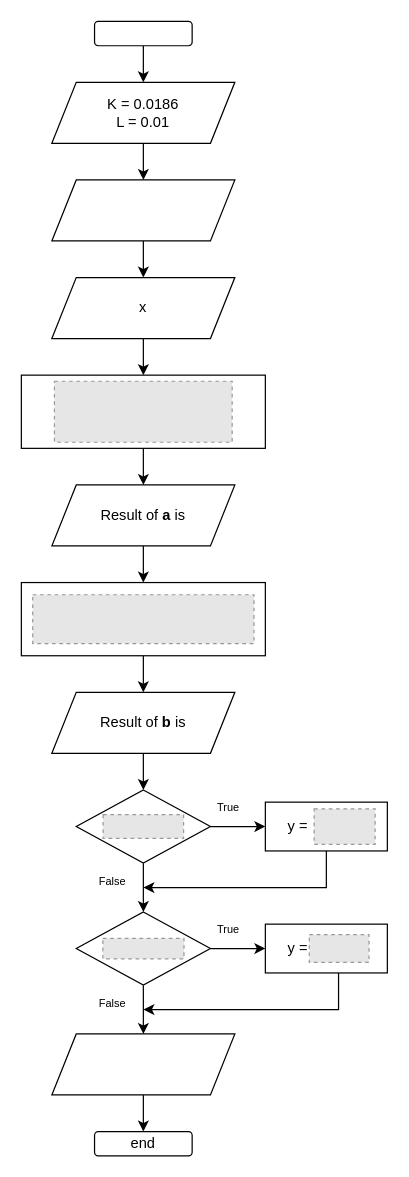
Some shapes in this 409 by 1177 pixel diagram are drawn without their labels. Grey dashed boxes stand in for pictures. The shapes that lost their labels are listed below. From the top down, each one's centre as x and y in pixels, then its label:
[142,33]: start
[143,210]: "Please enter the value of x"
[143,1064]: Result of y is
